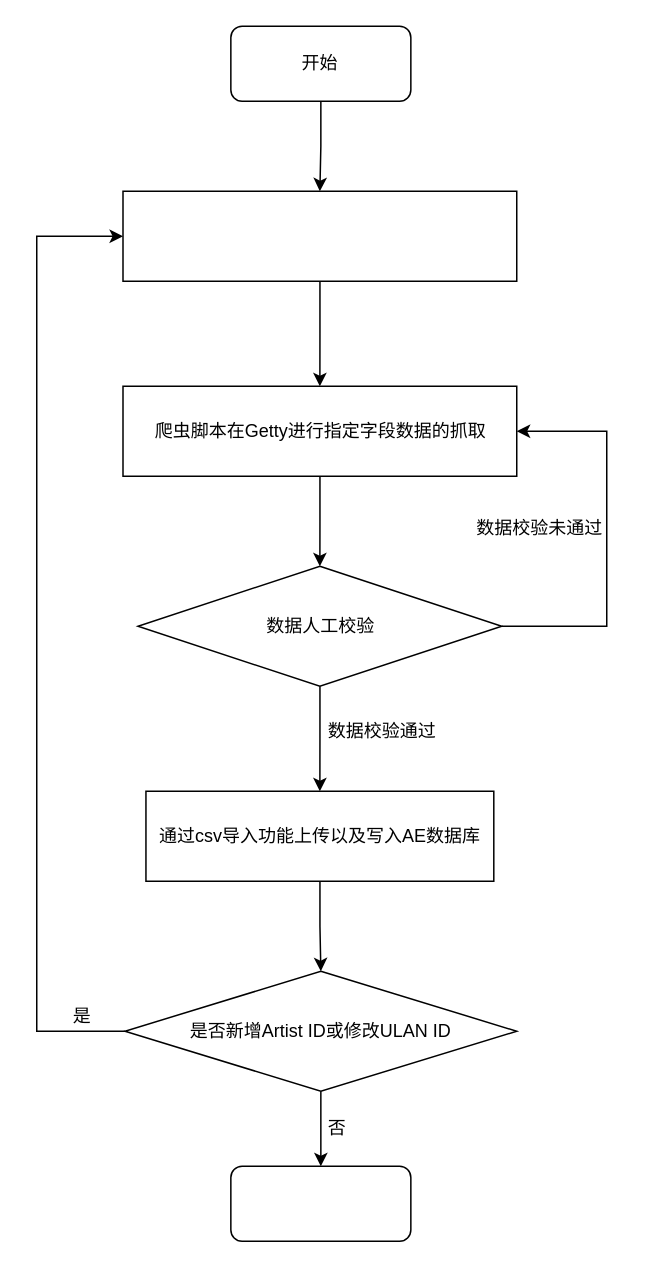
The diagram is 648 pixels wide and 1268 high, and some of its shapes have lost their labels. Each missing label, with the centre of its shape:
"结束" goes at (320,1203).
"给定带有Artist ID 与ULAN ID映射的csv文件" goes at (319,235).
